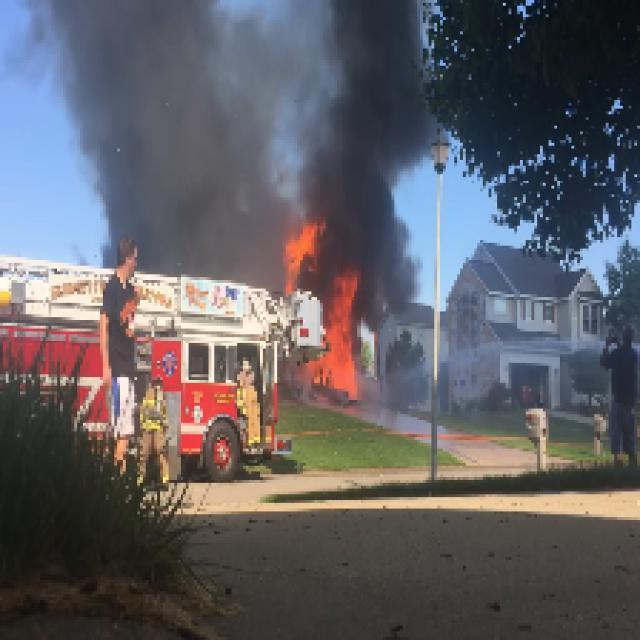Fire: (332, 266, 357, 392), (283, 220, 320, 272)
Smoke: (26, 2, 280, 218), (288, 3, 423, 214), (363, 220, 420, 320)
